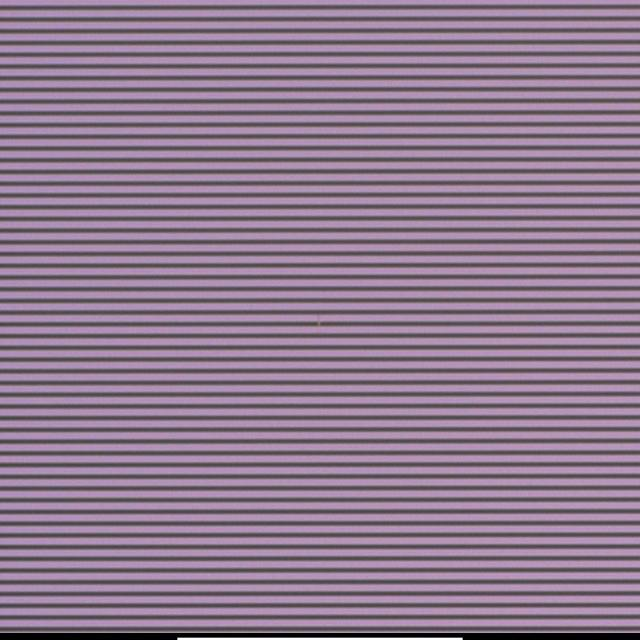nonvisual: (305, 312, 329, 332)
